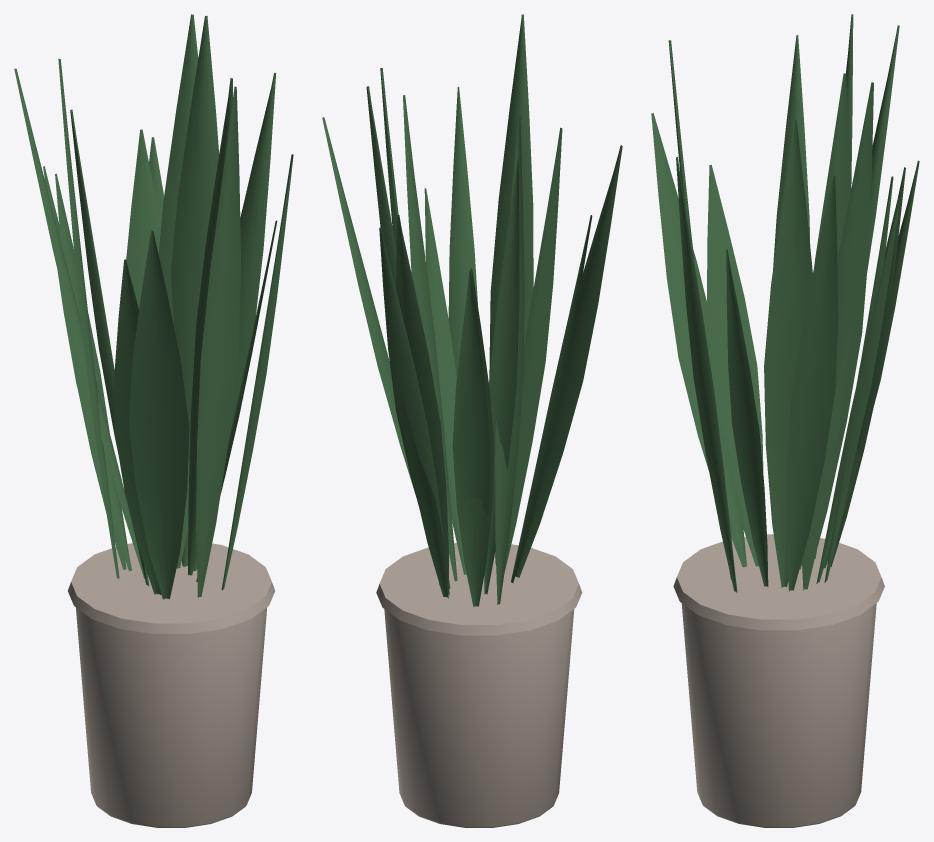
Rendered from floor-plant-b.glb.
3 renders of one model, left to right at view 1: azimuth 30°, elevation 25°; view 2: azimuth 150°, elevation 25°; view 3: azimuth 270°, elevation 25°, orthographic. The views are drawn at different scales.
Visible parts, largest first — view 1: floor-plant-b; view 2: floor-plant-b; view 3: floor-plant-b.
Part boxes in pixels (left/top/right/bottom): floor-plant-b: left=14, top=14, right=293, bottom=827; floor-plant-b: left=322, top=14, right=622, bottom=827; floor-plant-b: left=651, top=14, right=919, bottom=827.
Size of the model in its own units: 0.3143 by 0.975 by 0.3121.
